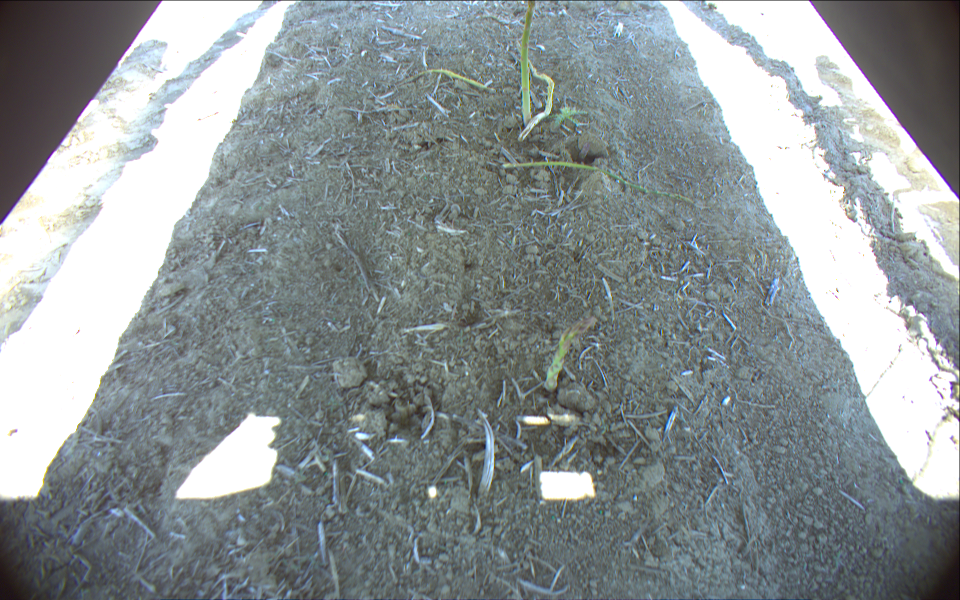aspa: (542, 311, 597, 394), (521, 1, 538, 130)
